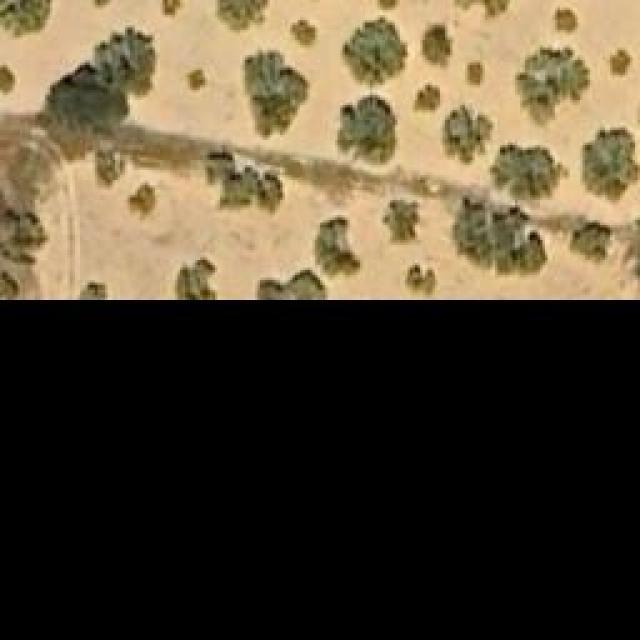Tree: (460, 198, 548, 273), (243, 50, 313, 140), (518, 47, 591, 125), (207, 153, 285, 213), (580, 127, 640, 205), (343, 18, 408, 81), (338, 97, 398, 165), (493, 143, 558, 198), (443, 105, 493, 168), (315, 218, 363, 278), (258, 268, 328, 298), (0, 0, 52, 37), (418, 20, 453, 73), (573, 215, 612, 262), (173, 258, 218, 298), (380, 200, 420, 245), (215, 0, 268, 30), (455, 0, 515, 25), (128, 180, 158, 220), (405, 265, 438, 298), (290, 18, 318, 48), (413, 85, 443, 113), (610, 50, 633, 78), (553, 8, 578, 33), (0, 270, 20, 298), (0, 63, 15, 96), (78, 283, 108, 298), (468, 63, 483, 88), (187, 70, 205, 90), (160, 0, 183, 15)
